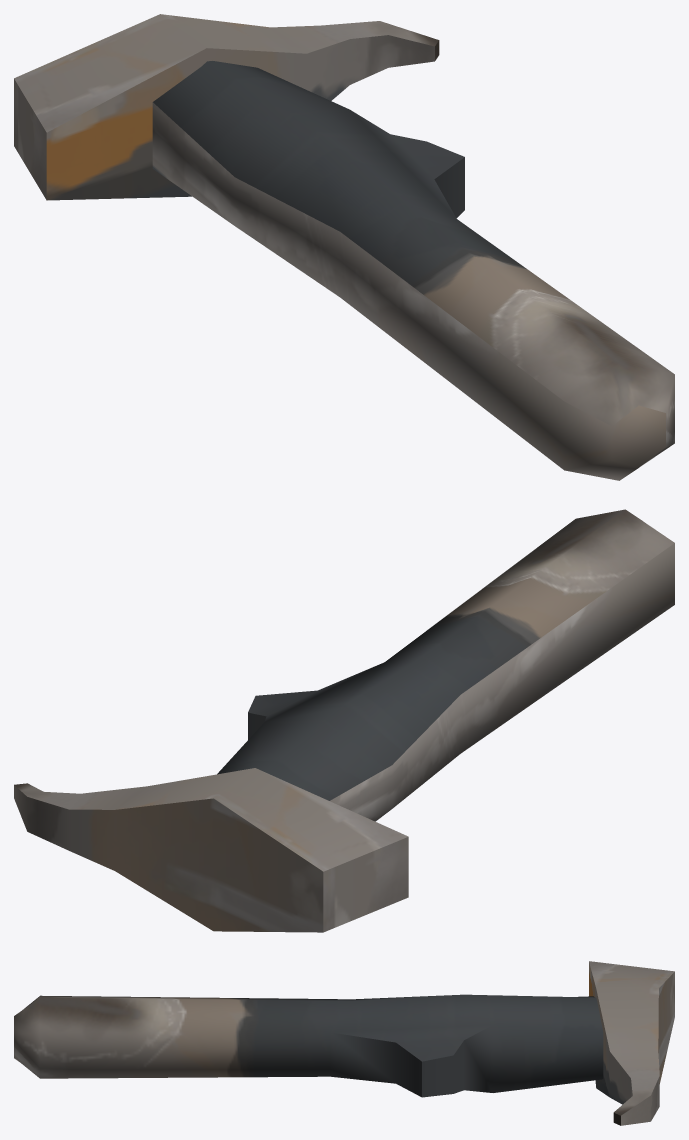
Rendered from hilt2.FBX.
3 views of the same model, one above another, from view 1: azimuth 30°, elevation 25°; view 2: azimuth 150°, elevation 25°; view 3: azimuth 270°, elevation 25° (orthographic). The views are drawn at different scales.
Visible parts, largest first — view 1: hilt002; view 2: hilt002; view 3: hilt002.
Part boxes in pixels (x1,y1,x2,y2): hilt002: [14, 14, 674, 480]; hilt002: [14, 509, 674, 932]; hilt002: [14, 961, 674, 1125].
Bounding box in the file's own units: 0.2624 × 0.5354 × 0.0893.
